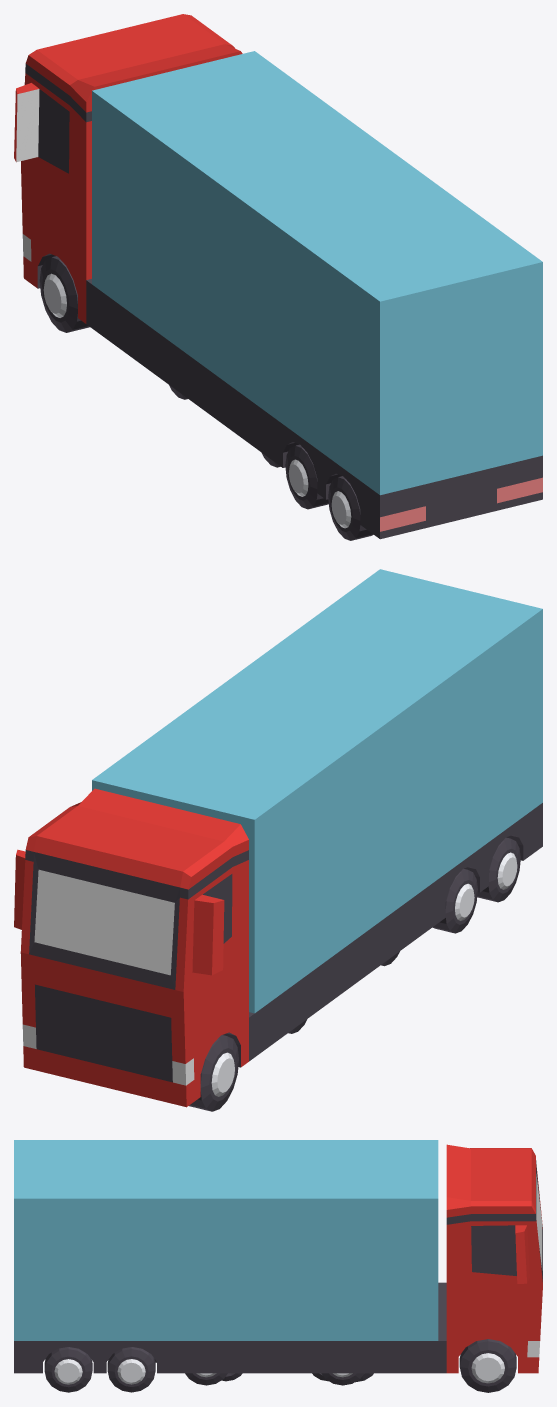
File: Cars.fbx
The picture shows the model from 3 angles, top to bottom: view 1: azimuth 30°, elevation 25°; view 2: azimuth 150°, elevation 25°; view 3: azimuth 270°, elevation 25°; orthographic projection. The views are drawn at different scales.
Visible parts, largest first — view 1: LKW; view 2: LKW; view 3: LKW, Sprinter.
Boxes of the visible parts, left/top/right/bottom form: LKW: left=14, top=14, right=542, bottom=540; LKW: left=14, top=569, right=542, bottom=1111; LKW: left=14, top=1140, right=542, bottom=1392; Sprinter: left=185, top=1373, right=363, bottom=1385.
Size of the model in its own units: 224 by 274 by 674.
